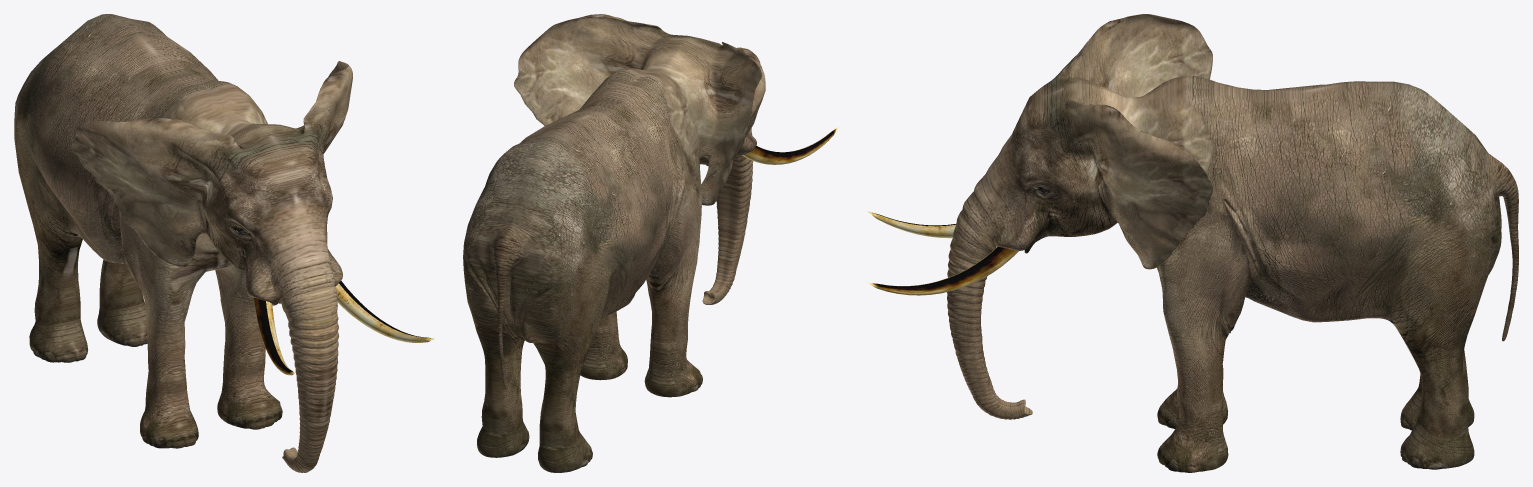
Rendered from elephant-transformed.glb.
The picture shows the model from 3 angles, left to right: view 1: azimuth 30°, elevation 25°; view 2: azimuth 150°, elevation 25°; view 3: azimuth 270°, elevation 25°; orthographic projection. The views are drawn at different scales.
Visible parts, largest first — view 1: 3DSMeshMatrix (×3); view 2: 3DSMeshMatrix (×2); view 3: 3DSMeshMatrix (×3).
Boxes of the visible parts, <box> form: 3DSMeshMatrix (×3): <box>14,14,434,472</box>; 3DSMeshMatrix (×2): <box>463,14,838,472</box>; 3DSMeshMatrix (×3): <box>867,14,1518,472</box>.
Size of the model in its own units: 547 by 717 by 1132.
Materials: 3 (2 with a texture image).
